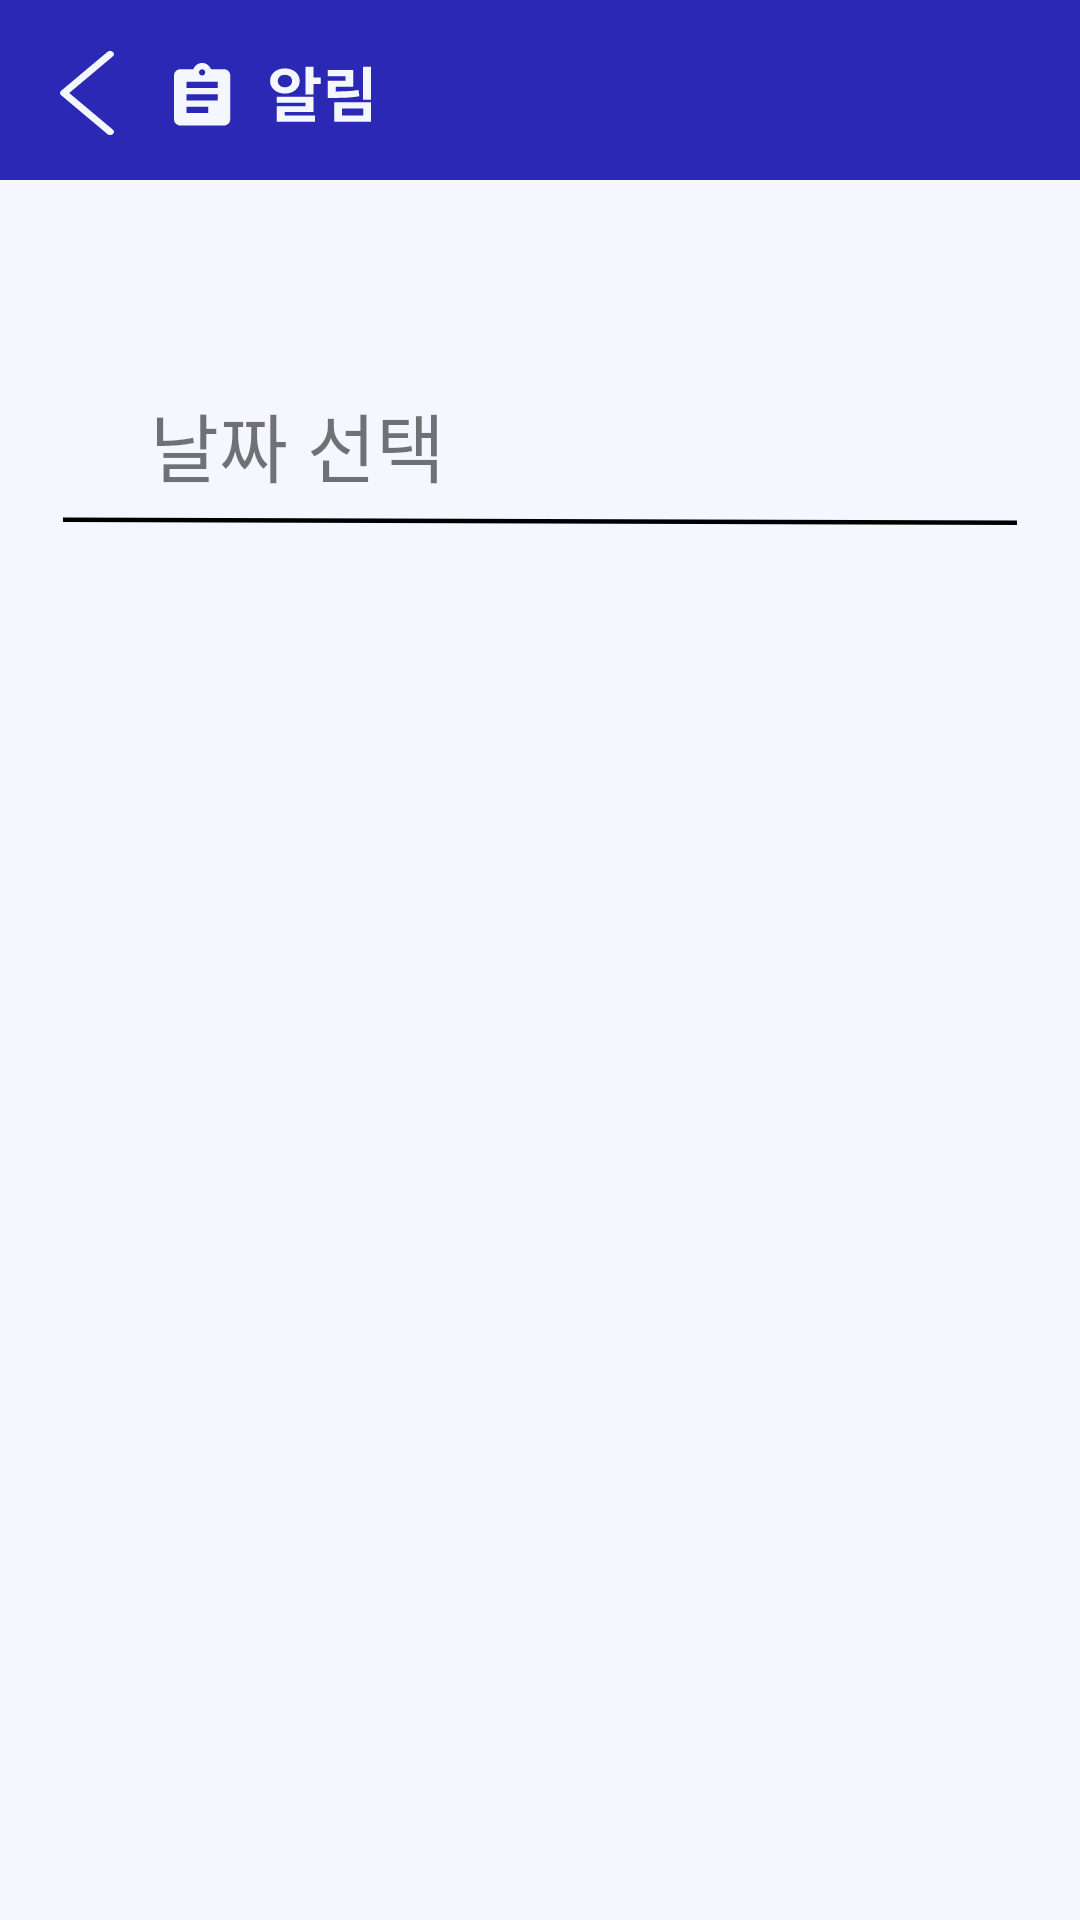

Where icons sit on this 1080w x 1920h app screen, as [x1, y1, x2, y2]:
alarm back: [60, 51, 114, 135]
